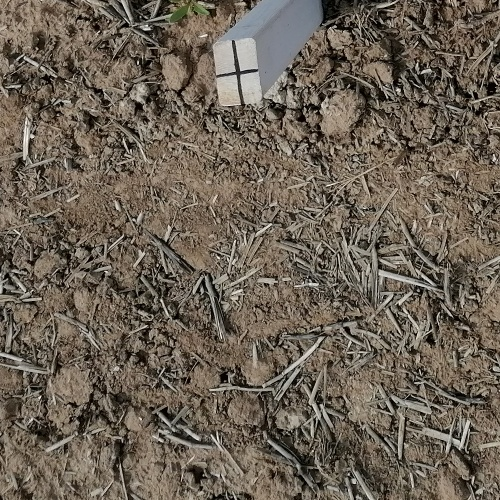beet: (167, 0, 213, 25)
